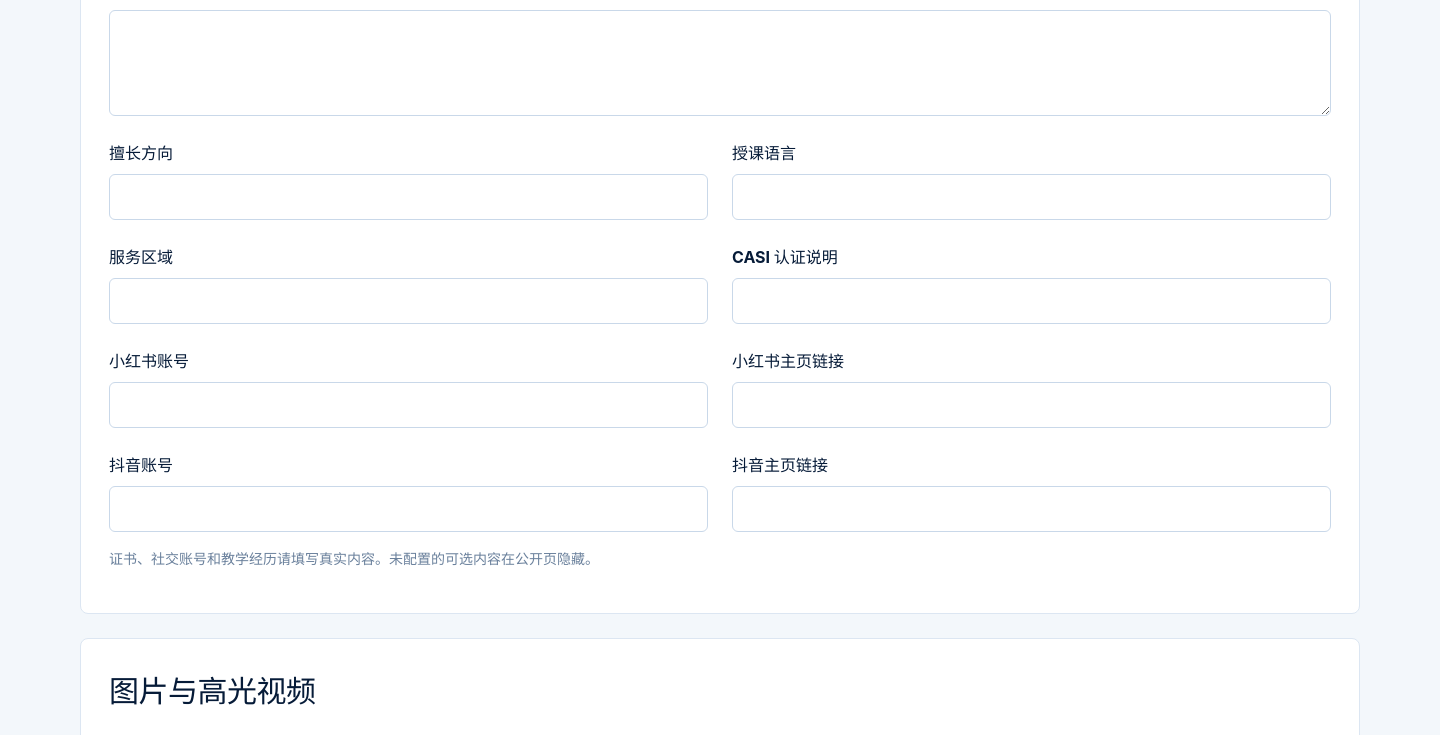
Test: edits social text independently with length limits and no WeChat account field
(page scrolled)
Type "自由昵称 @GEER" into the field labelled "小红书账号". click: (408, 405)
box: [109, 382, 708, 428]
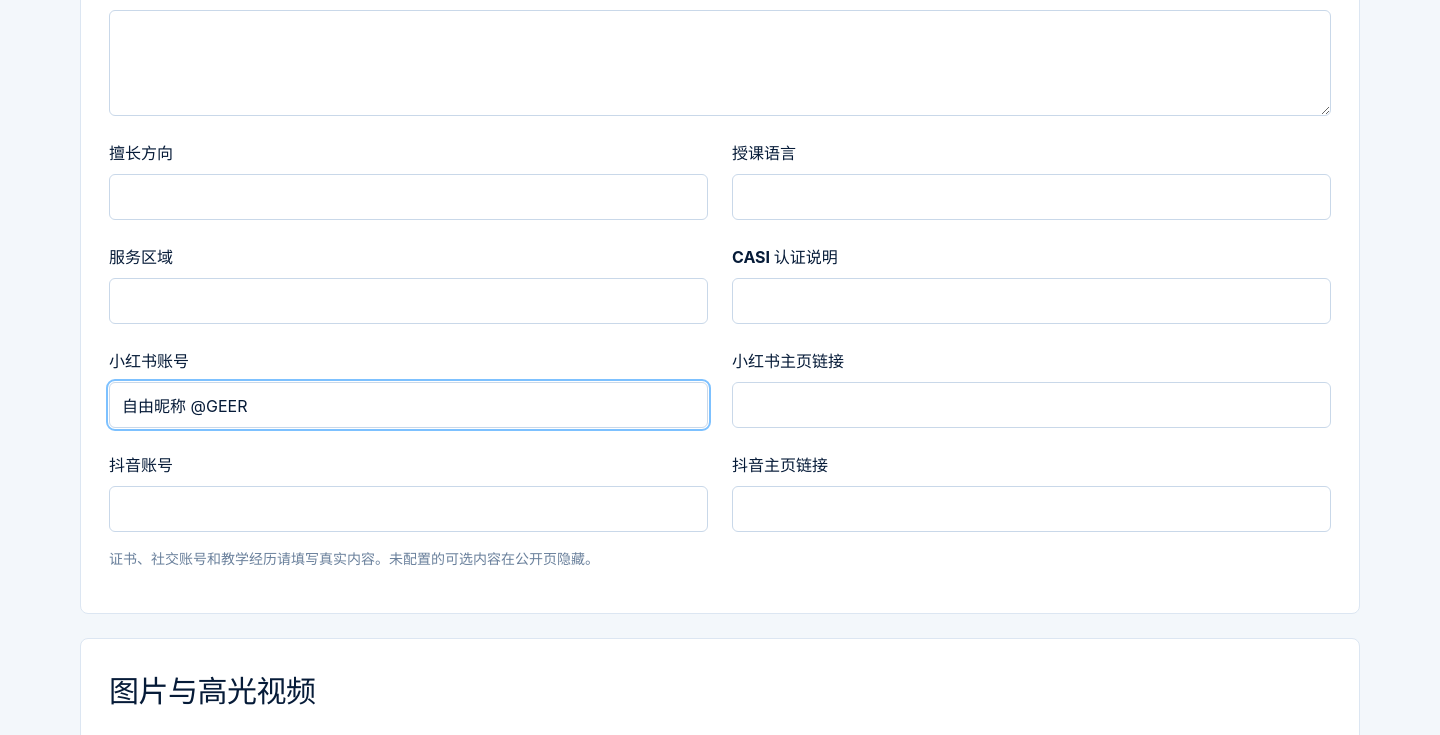
Type "主页稍后补充" into the field labelled "抖音主页链接". click: (1032, 509)
box: [732, 486, 1331, 532]
(page scrolled)
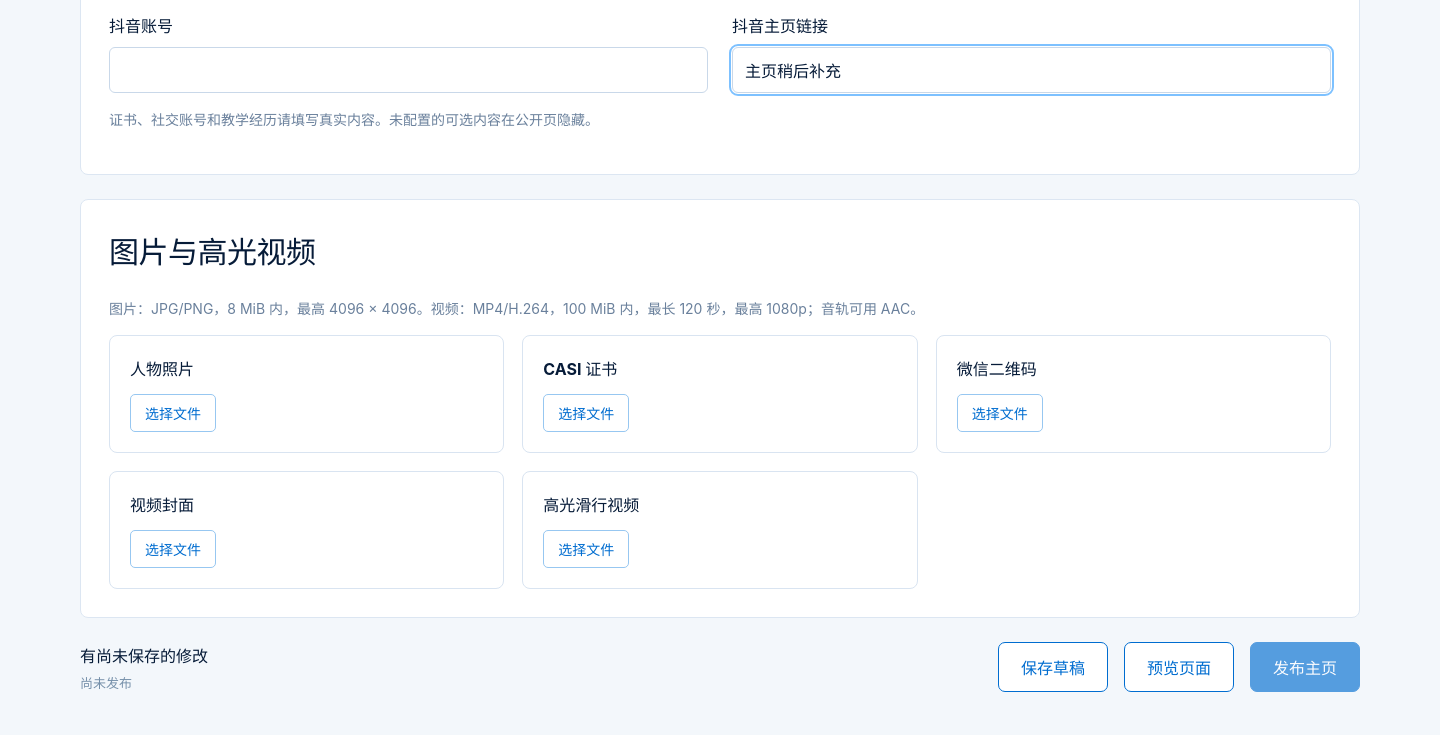
Click the button "保存草稿". click: (1053, 667)
box: [998, 642, 1108, 692]
(page scrolled)
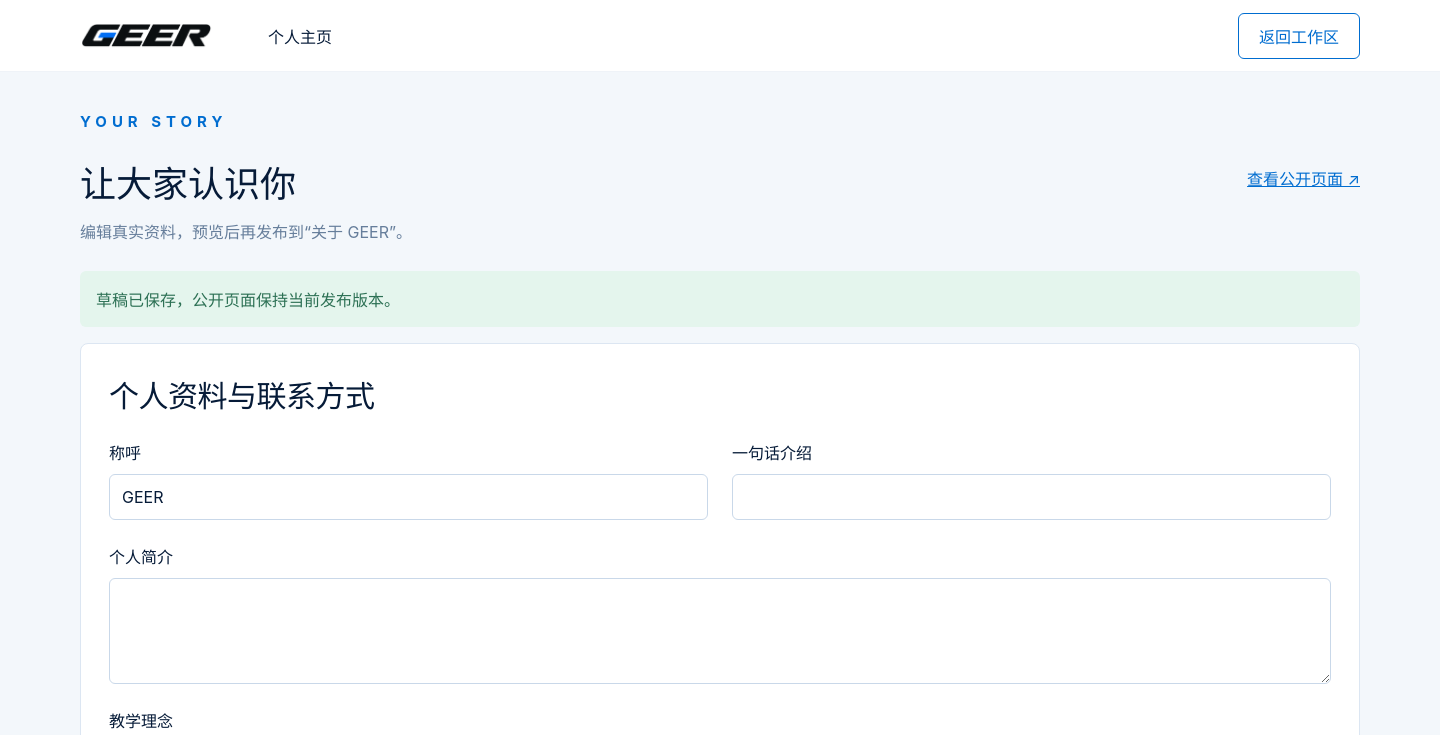
Expected: the message shows "草稿已保存", [96, 290, 400, 310]
